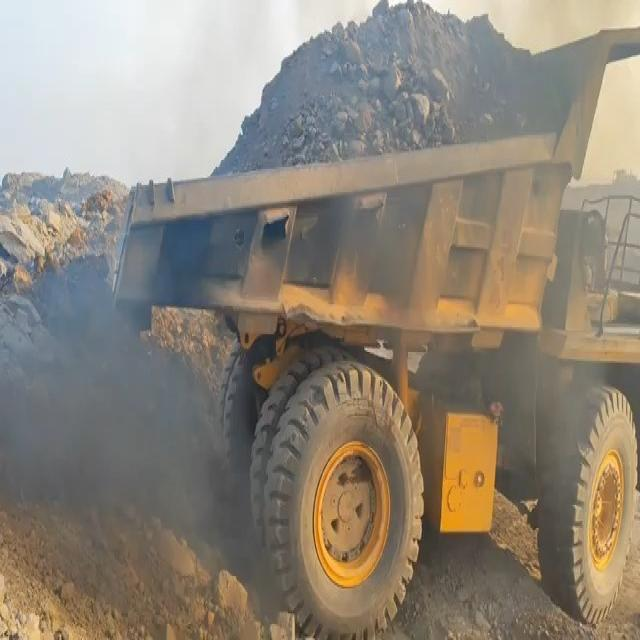dump_truck: (109, 31, 640, 622)
